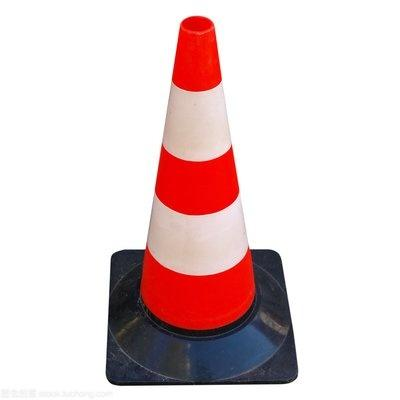cone_barrel: (119, 20, 272, 342)
